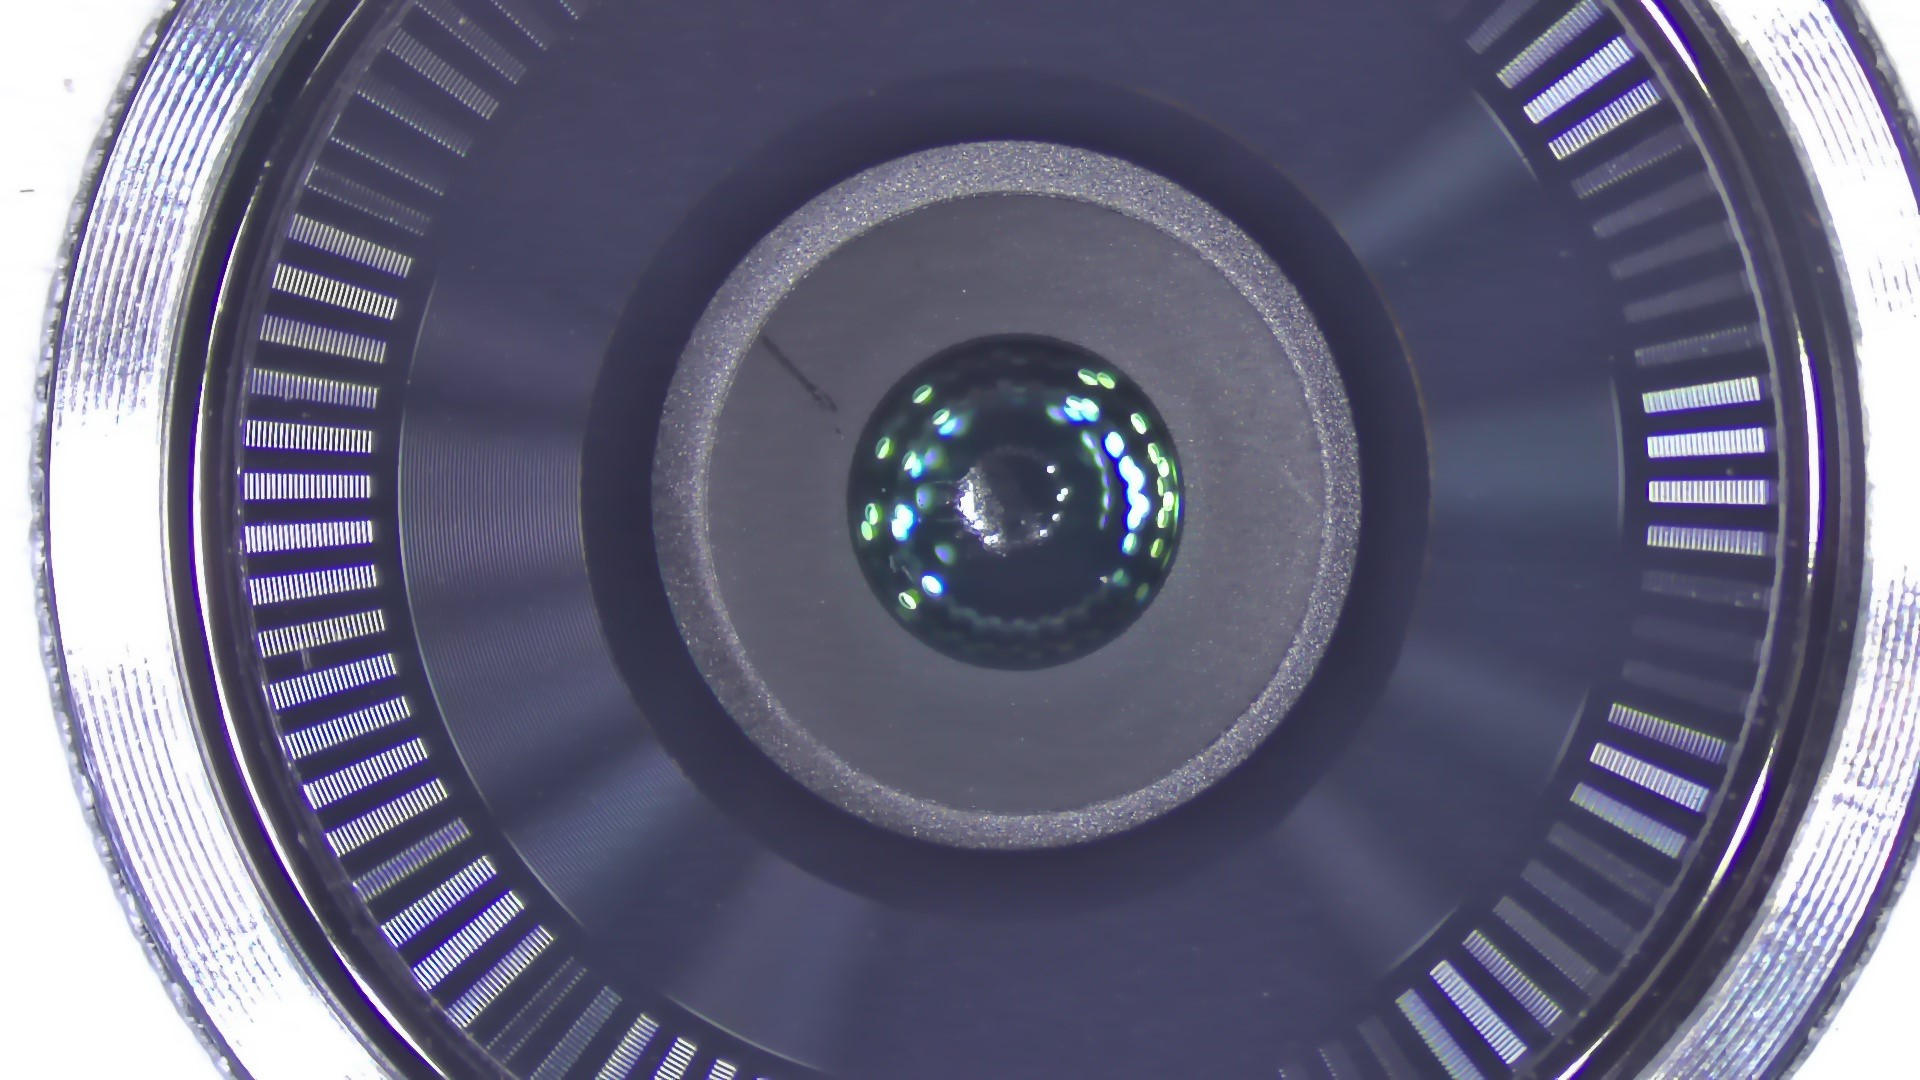crack: (738, 320, 860, 451)
